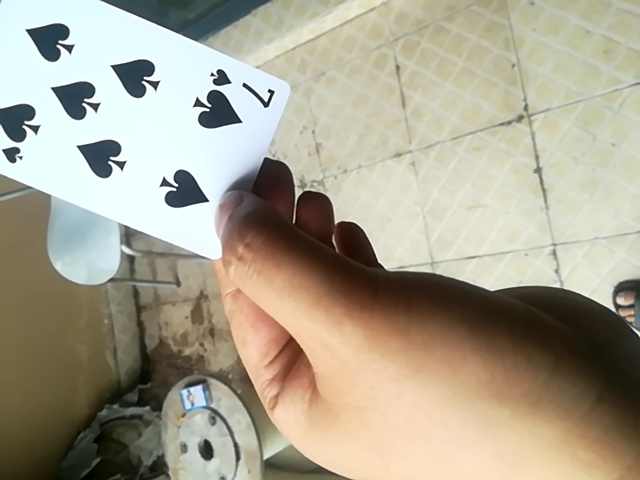ht 7: (0, 0, 297, 272)
